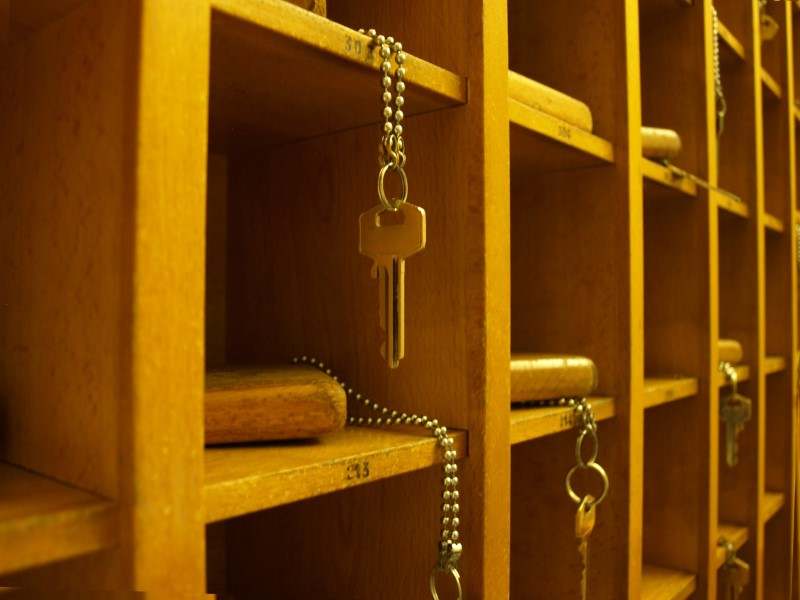key: (356, 193, 434, 374), (710, 385, 753, 470), (570, 487, 602, 596)
